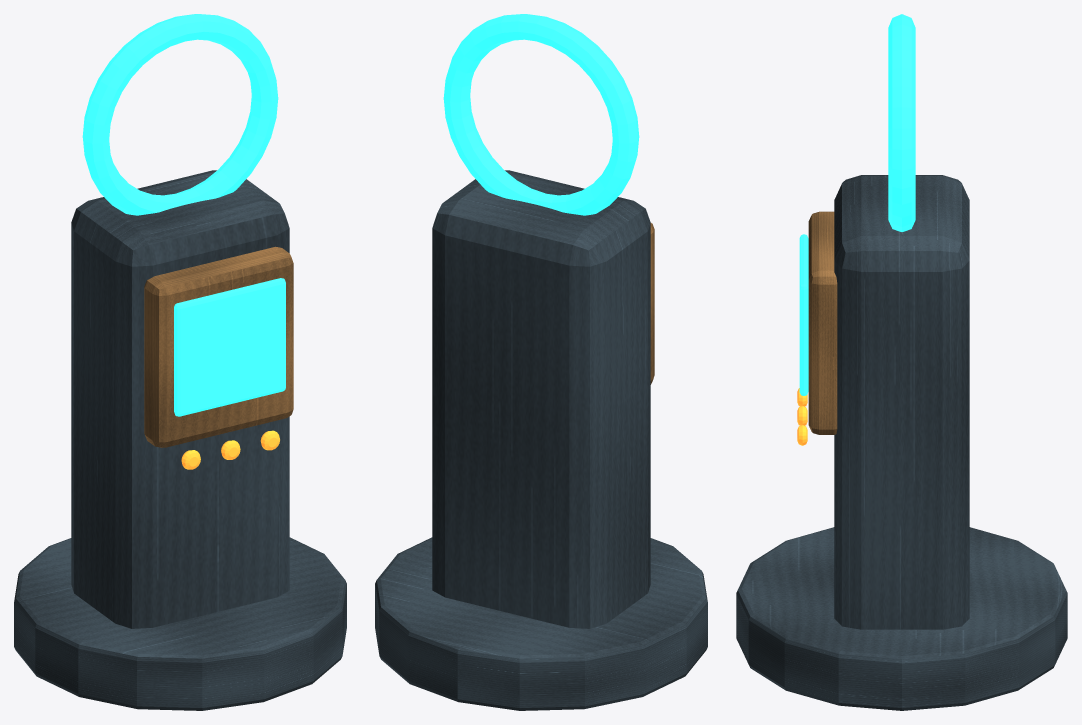
The model's file is console.glb.
3 renders of one model, left to right at view 1: azimuth 30°, elevation 25°; view 2: azimuth 150°, elevation 25°; view 3: azimuth 270°, elevation 25°, orthographic.
Visible parts, largest first — view 1: console; view 2: console; view 3: console.
Part boxes in pixels (x1,y1,x2,y2): console: (14, 14, 346, 710); console: (375, 14, 707, 710); console: (736, 14, 1067, 710).
Size of the model in its own units: 1.1 by 2.26 by 1.1.
4 materials, 2 textured.
